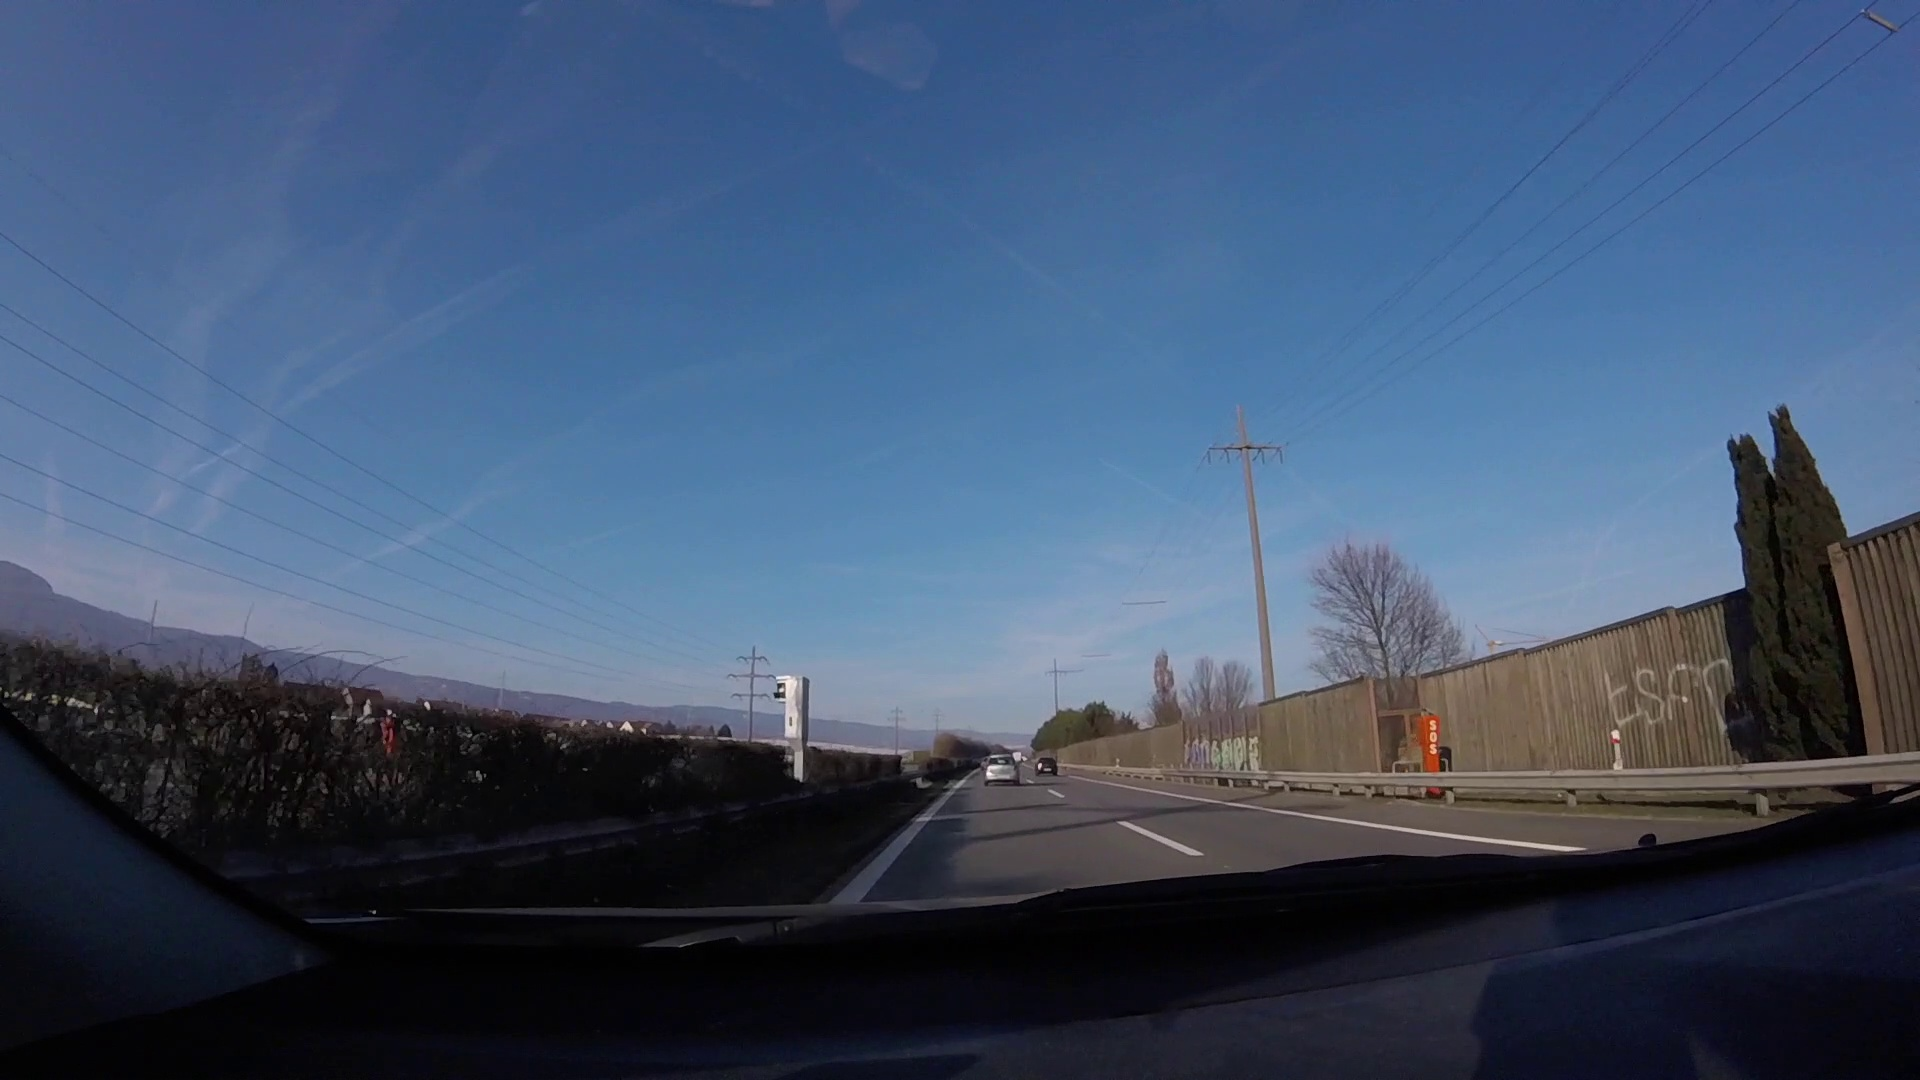radar: (771, 674, 814, 786)
